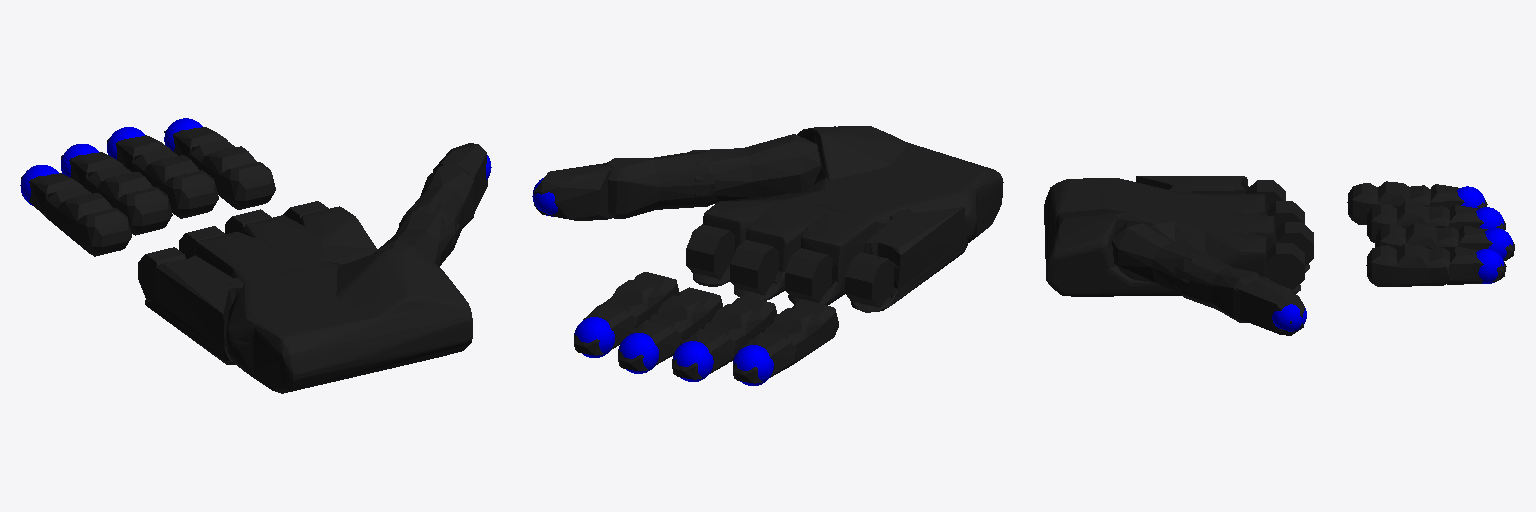
--- Facts derived from the render (not from the file) ---
Views: 3 orthographic renders of the robot side by side, from view 1: azimuth 30°, elevation 25°; view 2: azimuth 150°, elevation 25°; view 3: azimuth 270°, elevation 25°.
Model shadow_hand with 29 links and 28 joints (22 revolute, 5 fixed, 1 floating), rooted at world, posed all joints at 0.
Visible links, largest first — view 1: palm, little_finger_metacarpal, little_finger_middle, index_finger_middle, middle_finger_middle, ring_finger_middle, thumb_middle, thumb_proximal, thumb_distal, little_finger_knuckle, little_finger_distal, middle_finger_distal (+4 smaller); view 2: palm, little_finger_metacarpal, thumb_proximal, thumb_middle, thumb_distal, little_finger_middle, ring_finger_middle, middle_finger_middle, little_finger_knuckle, index_finger_middle, middle_finger_knuckle, index_finger_knuckle (+9 smaller); view 3: palm, thumb_proximal, thumb_middle, index_finger_middle, thumb_distal, little_finger_middle, ring_finger_middle, middle_finger_middle, little_finger_metacarpal, index_finger_knuckle, index_finger_distal, middle_finger_knuckle (+7 smaller).
Boxes of the visible links, x1,y1,x2,y2 form: palm: (194,206,472,393); little_finger_metacarpal: (145,255,243,364); little_finger_middle: (44,186,131,256); index_finger_middle: (189,139,275,209); middle_finger_middle: (131,148,218,218); ring_finger_middle: (84,165,172,235); thumb_middle: (399,165,474,246); thumb_proximal: (374,204,459,266); thumb_distal: (433,143,487,210); little_finger_knuckle: (138,247,185,299); little_finger_distal: (21,173,83,216); middle_finger_distal: (107,135,170,170); palm: (693,126,1003,305); little_finger_metacarpal: (850,207,967,312); thumb_proximal: (689,134,820,203); thumb_middle: (605,151,717,218); thumb_distal: (534,163,612,220); little_finger_middle: (762,300,838,365); ring_finger_middle: (701,296,777,361); middle_finger_middle: (647,287,722,344); little_finger_knuckle: (845,252,894,307); index_finger_middle: (603,272,679,327); middle_finger_knuckle: (730,240,778,295); index_finger_knuckle: (686,224,734,279); palm: (1044,178,1309,296); thumb_proximal: (1112,222,1208,295); thumb_middle: (1175,251,1260,322); index_finger_middle: (1366,244,1449,286); thumb_distal: (1234,276,1304,335); little_finger_middle: (1347,181,1430,224); ring_finger_middle: (1366,202,1449,242); middle_finger_middle: (1375,223,1458,251); little_finger_metacarpal: (1136,176,1248,193); index_finger_knuckle: (1267,243,1304,290); index_finger_distal: (1447,246,1506,284); middle_finger_knuckle: (1276,222,1313,265).
Size in the robot's own frame: 0.1537 by 0.2108 by 0.0359 metres.
17 mesh visuals loaded from 9 distinct referenced files (8 OBJ); not drawn: 4 (reference not matched to a file when rendering).

The robot description file, URDF, robot "shadow_hand":
<robot name="shadow_hand">
  <material name="black">
    <color rgba="0.15 0.15 0.15 1"/>
  </material>
<!--     
    <link name="forearm">
        <visual>
            <geometry name="forearm_visual">
                <mesh filename="meshes/collision/forearm.obj" />
            </geometry>
        </visual>
        <collision>
            <geometry name="forearm_collision">
                <mesh filename="meshes/collision/forearm.obj" />
            </geometry>
        </collision>
    <inertial><inertia ixx="0.007479321336534709" ixy="-7.267790891410464e-08" ixz="4.2529549726838906e-07" iyy="0.007475478330362289" iyz="3.883949104746152e-05" izz="0.004156257054350847" /><mass value="1.8670590993494502" /></inertial></link>

    <link name="wrist">
        <visual>
            <geometry name="wrist_visual">
                <mesh filename="meshes/collision/wrist.obj" />
            </geometry>
        </visual>
        <collision>
            <geometry name="wrist_collision">
                <mesh filename="meshes/collision/wrist.obj" />
            </geometry>
        </collision>
    <inertial><inertia ixx="5.593091243122308e-05" ixy="-1.8807050662536076e-08" ixz="-1.3060607259007272e-06" iyy="0.00012848029174956482" iyz="-1.1433247253685913e-07" izz="8.86688859858151e-05" /><mass value="0.20946475291094357" /></inertial></link> -->

    <link name="world"/>

    <link name="palm">
        <visual>
            <geometry name="palm_visual">
                <mesh filename="meshes/collision/palm.obj" />
            </geometry>
            <material name="black"/>
        </visual>
        <collision>
            <geometry name="palm_collision">
                <mesh filename="meshes/collision/palm.obj" />
            </geometry>
        </collision>
    <inertial><inertia ixx="0.0007551001272989889" ixy="-3.492739878765091e-06" ixz="-8.196253003214903e-05" iyy="0.001091486701981928" iyz="-2.266383206764121e-05" izz="0.0004204867341503172" /><mass value="0.8989030155430766" /></inertial></link>

    <joint name="world_to_palm" type="floating">
        <parent link="world" />
        <child link="palm" />
        <origin rpy="-1.5707963267948966 0 0" xyz="-0.005 -0.04 -0.015" />
    </joint>

    
    <!-- <joint name="forearm_joint" type="revolute">
        <parent link="forearm" />
        <child link="wrist" />
        <origin rpy="0 0 0" xyz="0 -0.010 0.213" />
        <axis xyz="0 1 0" />
        <limit effort="10.0" lower="-0.523598775598" upper="0.174532925199" velocity="2.0" />
    </joint>

    <joint name="wrist_joint" type="revolute">
        <parent link="wrist" />
        <child link="palm" />
        <origin rpy="0 0 0" xyz="0 0 0.034" />
        <axis xyz="1 0 0" />
        <limit effort="5.0" lower="-0.698131700798" upper="0.488692190558" velocity="2.0" />
    </joint> -->


    
    <link name="thumb_base" />

    <link name="thumb_proximal">
        <visual>
            <geometry name="thumb_proximal_visual">
                <mesh filename="meshes/collision/thumb_proximal.obj" />
            </geometry>
            <material name="black"/>
        </visual>
        <collision>
            <geometry name="thumb_proximal_collision">
                <mesh filename="meshes/collision/thumb_proximal.obj" />
            </geometry>
        </collision>
    <inertial><inertia ixx="4.411418271322683e-05" ixy="5.554615670778389e-09" ixz="-3.57753482568105e-08" iyy="4.4102721450521684e-05" iyz="-1.4658342135322015e-08" izz="8.856520036977598e-06" /><mass value="0.14945225599921122" /></inertial></link>

    <link name="thumb_hub" />

    <link name="thumb_middle">
        <visual>
            <geometry name="thumb_middle_visual">
                <mesh filename="meshes/collision/thumb_middle.obj" />
            </geometry>
            <material name="black"/>
        </visual>
        <collision>
            <geometry name="thumb_middle_collision">
                <mesh filename="meshes/collision/thumb_middle.obj" />
            </geometry>
        </collision>
    <inertial><inertia ixx="2.4368918444527592e-05" ixy="2.681795007815437e-12" ixz="1.6935381501090475e-08" iyy="2.3749026220471563e-05" iyz="4.266902097800442e-12" izz="5.6166937499601026e-06" /><mass value="0.11021476278915708" /></inertial></link>

    <link name="thumb_distal">
        <visual>
            <geometry name="thumb_distal_visual">
                <mesh filename="meshes/collision/thumb_distal.obj" />
            </geometry>
            <material name="black"/>
        </visual>
        <collision>
            <origin rpy="0 0 0" xyz="0 0 0.027" />
            <geometry name="thumb_distal_collision">
                <mesh filename="meshes/collision/ball0008.obj" />
            </geometry>
        </collision>
    <inertial><inertia ixx="5.578197585761807e-06" ixy="-7.712412276601149e-09" ixz="2.6443953020771643e-08" iyy="6.068884597217566e-06" iyz="3.177683019939289e-07" izz="2.809810687287833e-06" /><mass value="0.06104943729865724" /></inertial></link>


    
    <joint name="thumb_joint1" type="revolute">
        <parent link="palm" />
        <child link="thumb_base" />
        <origin rpy="0 0.785398163397 0.0" xyz="0.034 -0.0085 0.029" />
        <axis xyz="0 0 -1" />
        <limit effort="4.0" lower="-1.0471975512" upper="1.0471975512" velocity="4.0" />
    </joint>

    <joint name="thumb_joint2" type="revolute">
        <parent link="thumb_base" />
        <child link="thumb_proximal" />
        <axis xyz="1 0 0" />
        <limit effort="4.0" lower="0.0" upper="1.2217304764" velocity="4.0" />
    </joint>

    <joint name="thumb_joint3" type="revolute">
        <parent link="thumb_proximal" />
        <child link="thumb_hub" />
        <origin rpy="0 0 0" xyz="0 0 0.038" />
        <axis xyz="1 0 0" />
        <limit effort="4.0" lower="-0.209439510239" upper="0.209439510239" velocity="4.0" />
    </joint>

    <joint name="thumb_joint4" type="revolute">
        <parent link="thumb_hub" />
        <child link="thumb_middle" />
        <axis xyz="0 -1 0" />
        <limit effort="4.0" lower="-0.698131700798" upper="0.698131700798" velocity="2.0" />
    </joint>

    <joint name="thumb_joint5" type="revolute">
        <parent link="thumb_middle" />
        <child link="thumb_distal" />
        <origin rpy="0 0 -1.57079632679" xyz="0 0 0.032" />
        <axis xyz="1 0 0" />
        <limit effort="4.0" lower="0" upper="1.57079632679" velocity="4.0" />
    </joint>

    <link name="thumb_tip">
        <visual>
        <geometry>
        <sphere radius="0.008"/>
        </geometry>
        <material name="blue">
        <color rgba="0.0 0.0 1.0 1.0"/>
        </material>
        </visual>
    </link>
    <joint name="thumb_joint6" type="fixed">
        <parent link="thumb_distal" />
        <child link="thumb_tip" />
        <origin rpy="0 0 0" xyz="0 0 0.027" />
    </joint>

    
    <link name="index_finger_knuckle">
        <visual>
            <origin rpy="0 0 0" xyz="0 0 0.0005" />
            <geometry name="index_finger_knuckle_visual">
                <mesh filename="meshes/collision/knuckle.obj" />
            </geometry>
            <material name="black"/>
        </visual>
        <collision>
            <origin rpy="0 0 0" xyz="0 0 0.0005" />
            <geometry name="index_finger_knuckle_collision">
                <mesh filename="meshes/collision/knuckle.obj" />
            </geometry>
        </collision>
    <inertial><inertia ixx="6.316479307176084e-07" ixy="-1.2382869141168063e-09" ixz="-5.831177123574035e-10" iyy="5.565126662837287e-07" iyz="1.0137214702954782e-08" izz="5.418430344218945e-07" /><mass value="0.01756170743072032" /></inertial></link>

    <link name="index_finger_proximal">
        <visual>
            <geometry name="index_finger_proximal_visual">
                <mesh filename="meshes/collision/finger_proximal.obj" />
            </geometry>
            <material name="black"/>
        </visual>
        <collision>
            <geometry name="index_finger_proximal_collision">
                <mesh filename="meshes/collision/finger_proximal.obj" />
            </geometry>
        </collision>
    <inertial><inertia ixx="1.64199692748578e-05" ixy="1.253825845654266e-11" ixz="-7.420066134437321e-10" iyy="1.7157966187680744e-05" iyz="-1.7510504779955134e-07" izz="3.747449913981619e-06" /><mass value="0.08285889035010244" /></inertial></link>

    <link name="index_finger_middle">
        <visual>
            <geometry name="index_finger_middle_visual">
                <mesh filename="meshes/collision/finger_middle.obj" />
            </geometry>
            <material name="black"/>
        </visual>
        <collision>
            <geometry name="index_finger_middle_collision">
                <mesh filename="meshes/collision/finger_middle.obj" />
            </geometry>
        </collision>
    <inertial><inertia ixx="7.92822501939719e-06" ixy="1.358464044894204e-12" ixz="8.557150053771225e-11" iyy="8.29486054080741e-06" iyz="1.5315102261449506e-09" izz="2.3370015376721975e-06" /><mass value="0.06213685090672571" /></inertial></link>

    <link name="index_finger_distal">
        <visual>
            <geometry name="index_finger_distal_visual">
                <mesh filename="meshes/collision/finger_distal.obj" />
            </geometry>
            <material name="black"/>
        </visual>
        <collision>
            <origin rpy="0 0 0" xyz="0 0 0.021" />
            <geometry name="index_finger_distal_collision">
                <mesh filename="meshes/collision/ball0008.obj" />
            </geometry>
        </collision>
    <inertial><inertia ixx="1.4194224188403926e-06" ixy="1.6317994313320325e-12" ixz="1.2231062439498777e-12" iyy="1.5806235334852189e-06" iyz="4.943899859930379e-09" izz="8.420308791621785e-07" /><mass value="0.02746135061792896" /></inertial></link>


    
    <joint name="index_finger_joint1" type="revolute">
        <parent link="palm" />
        <child link="index_finger_knuckle" />
        <origin rpy="0 0 0" xyz="0.033 0 0.095" />
        <axis xyz="0 -1 0" />
        <limit effort="4.0" lower="-0.349065850399" upper="0.349065850399" velocity="2.0" />
    </joint>

    <joint name="index_finger_joint2" type="revolute">
        <parent link="index_finger_knuckle" />
        <child link="index_finger_proximal" />
        <axis xyz="1 0 0" />
        <limit effort="4.0" lower="0" upper="1.57079632679" velocity="2.0" />
    </joint>

    <joint name="index_finger_joint3" type="revolute">
        <parent link="index_finger_proximal" />
        <child link="index_finger_middle" />
        <origin rpy="0 0 0" xyz="0 0 0.045" />
        <axis xyz="1 0 0" />
        <limit effort="4.0" lower="0" upper="1.57079632679" velocity="2.0" />
    </joint>

    <joint name="index_finger_joint4" type="revolute">
        <parent link="index_finger_middle" />
        <child link="index_finger_distal" />
        <origin rpy="0 0 0" xyz="0 0 0.025" />
        <axis xyz="1 0 0" />
        <limit effort="4.0" lower="0" upper="1.57079632679" velocity="2.0" />
    </joint>

    <link name="index_tip">
        <visual>
        <geometry>
        <sphere radius="0.008"/>
        </geometry>
        <material name="blue">
        <color rgba="0.0 0.0 1.0 1.0"/>
        </material>
        </visual>
    </link>
    <joint name="index_finger_joint5" type="fixed">
        <parent link="index_finger_distal" />
        <child link="index_tip" />
        <origin rpy="0 0 0" xyz="0 0 0.021" />
    </joint>


    <link name="middle_finger_knuckle">
        <visual>
            <origin rpy="0 0 0" xyz="0 0 0.0005" />
            <geometry name="middle_finger_knuckle_visual">
                <mesh filename="meshes/collision/knuckle.obj" />
            </geometry>
            <material name="black"/>
        </visual>
        <collision>
            <origin rpy="0 0 0" xyz="0 0 0.0005" />
            <geometry name="middle_finger_knuckle_collision">
                <mesh filename="meshes/collision/knuckle.obj" />
            </geometry>
        </collision>
    <inertial><inertia ixx="6.316479307176084e-07" ixy="-1.2382869141168063e-09" ixz="-5.831177123574035e-10" iyy="5.565126662837287e-07" iyz="1.0137214702954782e-08" izz="5.418430344218945e-07" /><mass value="0.01756170743072032" /></inertial></link>

    <link name="middle_finger_proximal">
        <visual>
            <geometry name="middle_finger_proximal_visual">
                <mesh filename="meshes/collision/finger_proximal.obj" />
            </geometry>
            <material name="black"/>
        </visual>
        <collision>
            <geometry name="middle_finger_proximal_collision">
                <mesh filename="meshes/collision/finger_proximal.obj" />
            </geometry>
        </collision>
    <inertial><inertia ixx="1.64199692748578e-05" ixy="1.253825845654266e-11" ixz="-7.420066134437321e-10" iyy="1.7157966187680744e-05" iyz="-1.7510504779955134e-07" izz="3.747449913981619e-06" /><mass value="0.08285889035010244" /></inertial></link>

    <link name="middle_finger_middle">
        <visual>
            <geometry name="middle_finger_middle_visual">
                <mesh filename="meshes/collision/finger_middle.obj" />
            </geometry>
            <material name="black"/>
        </visual>
        <collision>
            <geometry name="middle_finger_middle_collision">
                <mesh filename="meshes/collision/finger_middle.obj" />
            </geometry>
        </collision>
    <inertial><inertia ixx="7.92822501939719e-06" ixy="1.358464044894204e-12" ixz="8.557150053771225e-11" iyy="8.29486054080741e-06" iyz="1.5315102261449506e-09" izz="2.3370015376721975e-06" /><mass value="0.06213685090672571" /></inertial></link>

    <link name="middle_finger_distal">
        <visual>
            <geometry name="middle_finger_distal_visual">
                <mesh filename="meshes/collision/finger_distal.obj" />
            </geometry>
            <material name="black"/>
        </visual>
        <collision>
            <origin rpy="0 0 0" xyz="0 0 0.021" />
            <geometry name="middle_finger_distal_collision">
                <mesh filename="meshes/collision/ball0008.obj" />
            </geometry>
        </collision>
    <inertial><inertia ixx="1.4194224188403926e-06" ixy="1.6317994313320325e-12" ixz="1.2231062439498777e-12" iyy="1.5806235334852189e-06" iyz="4.943899859930379e-09" izz="8.420308791621785e-07" /><mass value="0.02746135061792896" /></inertial></link>


    
    <joint name="middle_finger_joint1" type="revolute">
        <parent link="palm" />
        <child link="middle_finger_knuckle" />
        <origin rpy="0 0 0" xyz="0.011 0 0.099" />
        <axis xyz="0 -1 0" />
        <limit effort="4.0" lower="-0.349065850399" upper="0.349065850399" velocity="2.0" />
    </joint>

    <joint name="middle_finger_joint2" type="revolute">
        <parent link="middle_finger_knuckle" />
        <child link="middle_finger_proximal" />
        <axis xyz="1 0 0" />
        <limit effort="4.0" lower="0" upper="1.57079632679" velocity="2.0" />
    </joint>

    <joint name="middle_finger_joint3" type="revolute">
        <parent link="middle_finger_proximal" />
        <child link="middle_finger_middle" />
        <origin rpy="0 0 0" xyz="0 0 0.045" />
        <axis xyz="1 0 0" />
        <limit effort="4.0" lower="0" upper="1.57079632679" velocity="2.0" />
    </joint>

    <joint name="middle_finger_joint4" type="revolute">
        <parent link="middle_finger_middle" />
        <child link="middle_finger_distal" />
        <origin rpy="0 0 0" xyz="0 0 0.025" />
        <axis xyz="1 0 0" />
        <limit effort="4.0" lower="0" upper="1.57079632679" velocity="2.0" />
    </joint>

    <link name="middle_tip">
        <visual>
        <geometry>
        <sphere radius="0.008"/>
        </geometry>
        <material name="blue">
        <color rgba="0.0 0.0 1.0 1.0"/>
        </material>
        </visual>
    </link>
    <joint name="middle_finger_joint5" type="fixed">
        <parent link="middle_finger_distal" />
        <child link="middle_tip" />
        <origin rpy="0 0 0" xyz="0 0 0.021" />
    </joint>

    
    <link name="ring_finger_knuckle">
        <visual>
            <origin rpy="0 0 0" xyz="0 0 0.0005" />
            <geometry name="ring_finger_knuckle_visual">
                <mesh filename="meshes/collision/knuckle.obj" />
            </geometry>
            <material name="black"/>
        </visual>
        <collision>
            <origin rpy="0 0 0" xyz="0 0 0.0005" />
            <geometry name="ring_finger_knuckle_collision">
                <mesh filename="meshes/collision/knuckle.obj" />
            </geometry>
        </collision>
    <inertial><inertia ixx="6.316479307176084e-07" ixy="-1.2382869141168063e-09" ixz="-5.831177123574035e-10" iyy="5.565126662837287e-07" iyz="1.0137214702954782e-08" izz="5.418430344218945e-07" /><mass value="0.01756170743072032" /></inertial></link>

    <link name="ring_finger_proximal">
        <visual>
            <geometry name="ring_finger_proximal_visual">
                <mesh filename="meshes/collision/finger_proximal.obj" />
            </geometry>
            <material name="black"/>
        </visual>
        <collision>
            <geometry name="ring_finger_proximal_collision">
                <mesh filename="meshes/collision/finger_proximal.obj" />
            </geometry>
        </collision>
    <inertial><inertia ixx="1.64199692748578e-05" ixy="1.253825845654266e-11" ixz="-7.420066134437321e-10" iyy="1.7157966187680744e-05" iyz="-1.7510504779955134e-07" izz="3.747449913981619e-06" /><mass value="0.08285889035010244" /></inertial></link>

    <link name="ring_finger_middle">
        <visual>
            <geometry name="ring_finger_middle_visual">
                <mesh filename="meshes/collision/finger_middle.obj" />
            </geometry>
            <material name="black"/>
        </visual>
        <collision>
            <geometry name="ring_finger_middle_collision">
                <mesh filename="meshes/collision/finger_middle.obj" />
            </geometry>
        </collision>
    <inertial><inertia ixx="7.92822501939719e-06" ixy="1.358464044894204e-12" ixz="8.557150053771225e-11" iyy="8.29486054080741e-06" iyz="1.5315102261449506e-09" izz="2.3370015376721975e-06" /><mass value="0.06213685090672571" /></inertial></link>

    <link name="ring_finger_distal">
        <visual>
            <geometry name="ring_finger_distal_visual">
                <mesh filename="meshes/collision/finger_distal.obj" />
            </geometry>
            <material name="black"/>
        </visual>
        <collision>
            <origin rpy="0 0 0" xyz="0 0 0.021" />
            <geometry name="ring_finger_distal_collision">
                <mesh filename="meshes/collision/ball0008.obj" />
            </geometry>
        </collision>
    <inertial><inertia ixx="1.4194224188403926e-06" ixy="1.6317994313320325e-12" ixz="1.2231062439498777e-12" iyy="1.5806235334852189e-06" iyz="4.943899859930379e-09" izz="8.420308791621785e-07" /><mass value="0.02746135061792896" /></inertial></link>


    
    <joint name="ring_finger_joint1" type="revolute">
        <parent link="palm" />
        <child link="ring_finger_knuckle" />
        <origin rpy="0 0 0" xyz="-0.011 0 0.095" />
        <axis xyz="0 1 0" />
        <limit effort="4.0" lower="-0.349065850399" upper="0.349065850399" velocity="2.0" />
    </joint>

    <joint name="ring_finger_joint2" type="revolute">
        <parent link="ring_finger_knuckle" />
        <child link="ring_finger_proximal" />
        <axis xyz="1 0 0" />
        <limit effort="4.0" lower="0" upper="1.57079632679" velocity="2.0" />
    </joint>

    <joint name="ring_finger_joint3" type="revolute">
        <parent link="ring_finger_proximal" />
        <child link="ring_finger_middle" />
        <origin rpy="0 0 0" xyz="0 0 0.045" />
        <axis xyz="1 0 0" />
        <limit effort="4.0" lower="0" upper="1.57079632679" velocity="2.0" />
    </joint>

    <joint name="ring_finger_joint4" type="revolute">
        <parent link="ring_finger_middle" />
        <child link="ring_finger_distal" />
        <origin rpy="0 0 0" xyz="0 0 0.025" />
        <axis xyz="1 0 0" />
        <limit effort="4.0" lower="0" upper="1.57079632679" velocity="2.0" />
    </joint>

    <link name="ring_tip">
        <visual>
        <geometry>
        <sphere radius="0.008"/>
        </geometry>
        <material name="blue">
        <color rgba="0.0 0.0 1.0 1.0"/>
        </material>
        </visual>
    </link>
    <joint name="ring_finger_joint5" type="fixed">
        <parent link="ring_finger_distal" />
        <child link="ring_tip" />
        <origin rpy="0 0 0" xyz="0 0 0.021" />
    </joint>
    
    <link name="little_finger_metacarpal">
        <visual>
            <geometry name="little_finger_metacarpal_visual">
                <mesh filename="meshes/collision/metacarpal.obj" />
            </geometry>
            <material name="black"/>
        </visual>
        <collision>
            <geometry name="little_finger_metacarpal_collision">
                <mesh filename="meshes/collision/metacarpal.obj" />
            </geometry>
        </collision>
    <inertial><inertia ixx="3.19475650762325e-05" ixy="2.1306799619147762e-07" ixz="4.34652595971126e-06" iyy="3.6120384617440835e-05" iyz="-6.148711513920819e-07" izz="1.58472918335685e-05" /><mass value="0.1437814788875964" /></inertial></link>

    <link name="little_finger_knuckle">
        <visual>
            <origin rpy="0 0 0" xyz="0 0 0.0005" />
            <geometry name="little_finger_knuckle_visual">
                <mesh filename="meshes/collision/knuckle.obj" />
            </geometry>
            <material name="black"/>
        </visual>
        <collision>
            <origin rpy="0 0 0" xyz="0 0 0.0005" />
            <geometry name="little_finger_knuckle_collision">
                <mesh filename="meshes/collision/knuckle.obj" />
            </geometry>
        </collision>
    <inertial><inertia ixx="6.316479307176084e-07" ixy="-1.2382869141168063e-09" ixz="-5.831177123574035e-10" iyy="5.565126662837287e-07" iyz="1.0137214702954782e-08" izz="5.418430344218945e-07" /><mass value="0.01756170743072032" /></inertial></link>

    <link name="little_finger_proximal">
        <visual>
            <geometry name="little_finger_proximal_visual">
                <mesh filename="meshes/collision/finger_proximal.obj" />
            </geometry>
            <material name="black"/>
        </visual>
        <collision>
            <geometry name="little_finger_proximal_collision">
                <mesh filename="meshes/collision/finger_proximal.obj" />
            </geometry>
        </collision>
    <inertial><inertia ixx="1.64199692748578e-05" ixy="1.253825845654266e-11" ixz="-7.420066134437321e-10" iyy="1.7157966187680744e-05" iyz="-1.7510504779955134e-07" izz="3.747449913981619e-06" /><mass value="0.08285889035010244" /></inertial></link>

    <link name="little_finger_middle">
        <visual>
            <geometry name="little_finger_middle_visual">
                <mesh filename="meshes/collision/finger_middle.obj" />
            </geometry>
            <material name="black"/>
        </visual>
        <collision>
            <geometry name="little_finger_middle_collision">
                <mesh filename="meshes/collision/finger_middle.obj" />
            </geometry>
        </collision>
    <inertial><inertia ixx="7.92822501939719e-06" ixy="1.358464044894204e-12" ixz="8.557150053771225e-11" iyy="8.29486054080741e-06" iyz="1.5315102261449506e-09" izz="2.3370015376721975e-06" /><mass value="0.06213685090672571" /></inertial></link>

    <link name="little_finger_distal">
        <visual>
            <geometry name="little_finger_distal_visual">
                <mesh filename="meshes/collision/finger_distal.obj" />
            </geometry>
            <material name="black"/>
        </visual>
        <collision>
            <origin rpy="0 0 0" xyz="0 0 0.021" />
            <geometry name="little_finger_distal_collision">
                <mesh filename="meshes/collision/ball0008.obj" />
            </geometry>
        </collision>
    <inertial><inertia ixx="1.4194224188403926e-06" ixy="1.6317994313320325e-12" ixz="1.2231062439498777e-12" iyy="1.5806235334852189e-06" iyz="4.943899859930379e-09" izz="8.420308791621785e-07" /><mass value="0.02746135061792896" /></inertial></link>


    
    <joint name="little_finger_joint1" type="revolute">
        <parent link="palm" />
        <child link="little_finger_metacarpal" />
        <origin rpy="0 0 0" xyz="-0.033 0 0.02071" />
        <axis xyz="0.573576436 0 0.819152044" />
        <limit effort="4.0" lower="0" upper="0.785398163397" velocity="2.0" />
    </joint>

    <joint name="little_finger_joint2" type="revolute">
        <parent link="little_finger_metacarpal" />
        <child link="little_finger_knuckle" />
        <origin rpy="0 0 0" xyz="0 0 0.06579" />
        <axis xyz="0 1 0" />
        <limit effort="4.0" lower="-0.349065850399" upper="0.349065850399" velocity="2.0" />
    </joint>

    <joint name="little_finger_joint3" type="revolute">
        <parent link="little_finger_knuckle" />
        <child link="little_finger_proximal" />
        <axis xyz="1 0 0" />
        <limit effort="4.0" lower="0" upper="1.57079632679" velocity="2.0" />
    </joint>

    <joint name="little_finger_joint4" type="revolute">
        <parent link="little_finger_proximal" />
        <child link="little_finger_middle" />
        <origin rpy="0 0 0" xyz="0 0 0.045" />
        <axis xyz="1 0 0" />
        <limit effort="4.0" lower="0" upper="1.57079632679" velocity="2.0" />
    </joint>

    <joint name="little_finger_joint5" type="revolute">
        <parent link="little_finger_middle" />
        <child link="little_finger_distal" />
        <origin rpy="0 0 0" xyz="0 0 0.025" />
        <axis xyz="1 0 0" />
        <limit effort="4.0" lower="0" upper="1.57079632679" velocity="2.0" />
    </joint>

    <link name="little_tip">
        <visual>
        <geometry>
        <sphere radius="0.008"/>
        </geometry>
        <material name="blue">
        <color rgba="0.0 0.0 1.0 1.0"/>
        </material>
        </visual>
    </link>
    <joint name="little_finger_joint6" type="fixed">
        <parent link="little_finger_distal" />
        <child link="little_tip" />
        <origin rpy="0 0 0" xyz="0 0 0.021" />
    </joint>

</robot>
